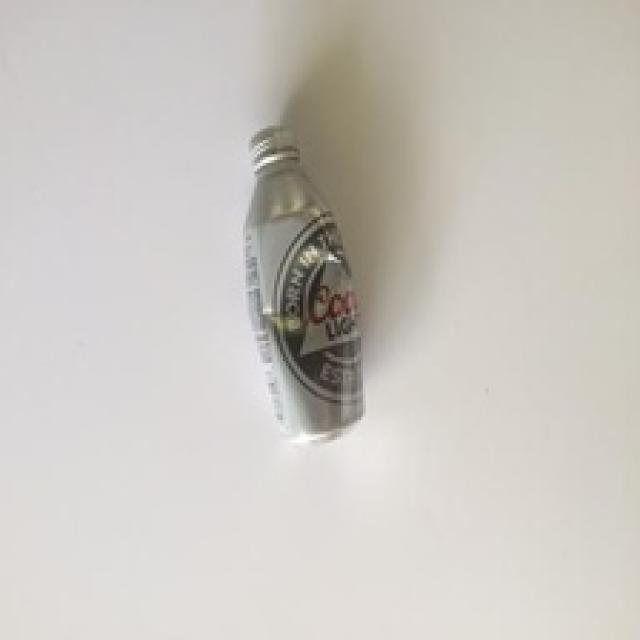recyclable: (239, 124, 364, 444)
